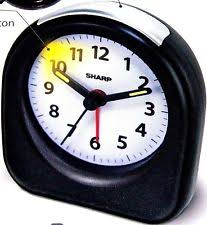alarm_clock: (9, 2, 205, 224), (9, 2, 199, 224), (9, 14, 199, 224)
